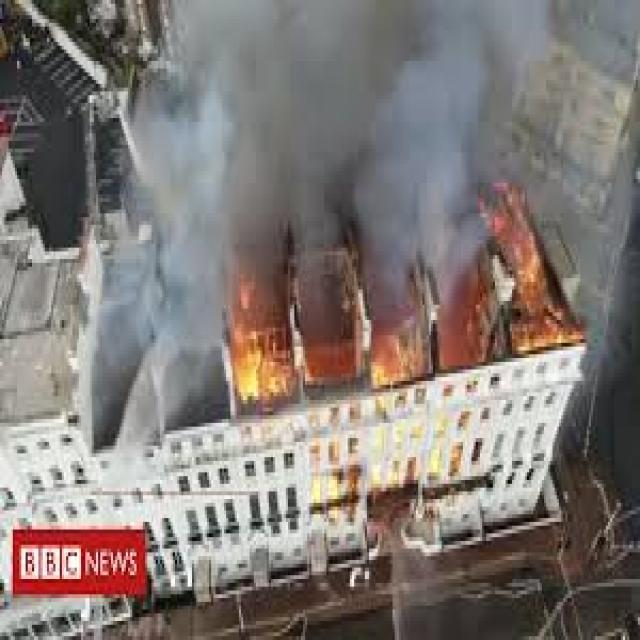Fire: (468, 164, 584, 353), (220, 270, 356, 426)
Smoke: (91, 0, 220, 423), (223, 0, 354, 269), (356, 0, 467, 301), (467, 0, 640, 161), (585, 160, 640, 370)
